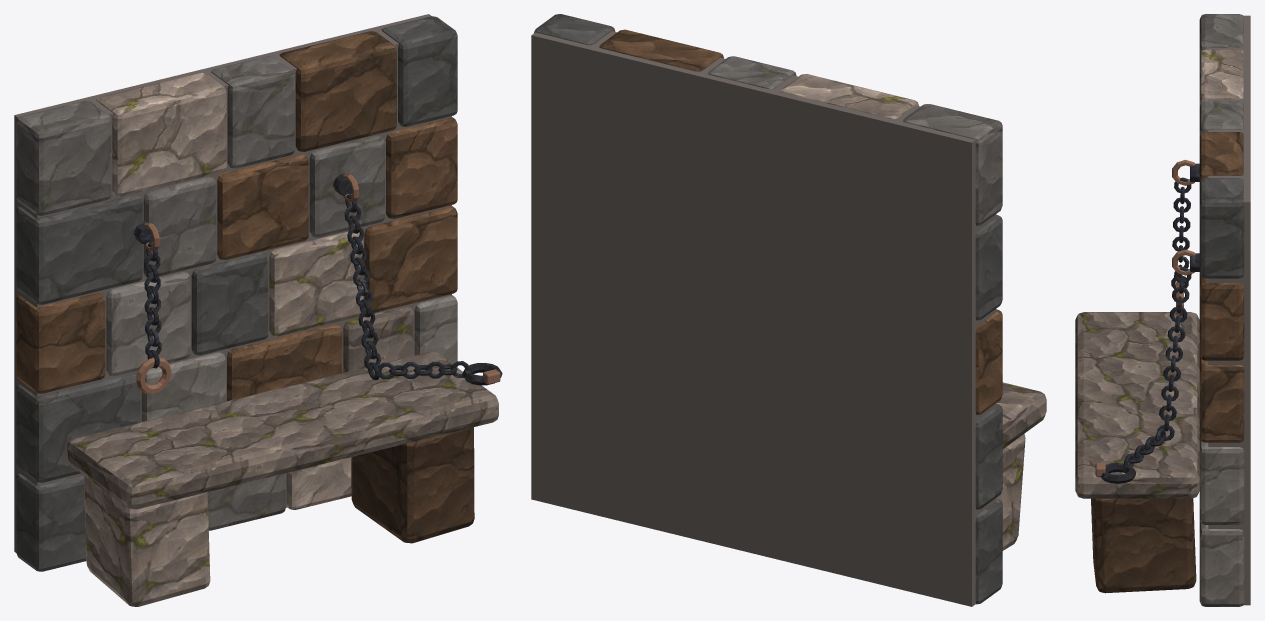
Rendered from prison_bench.glb.
3 renders of one model, left to right at view 1: azimuth 30°, elevation 25°; view 2: azimuth 150°, elevation 25°; view 3: azimuth 270°, elevation 25°, orthographic. The views are drawn at different scales.
Visible parts, largest first — view 1: model; view 2: model; view 3: model.
Boxes of the visible parts, left/top/right/bottom form: model: left=14, top=14, right=502, bottom=606; model: left=531, top=14, right=1046, bottom=606; model: left=1075, top=14, right=1250, bottom=606.
Bounding box in the file's own units: 1.59 × 1.61 × 0.62.
Materials: 11 (9 with a texture image).
